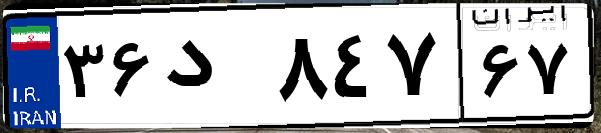3: (57, 26, 110, 100)
4: (330, 28, 385, 110)
6: (475, 38, 525, 113), (110, 28, 158, 98)
7: (385, 28, 445, 110), (525, 38, 570, 115)
8: (270, 28, 330, 110)
د: (158, 20, 270, 120)
